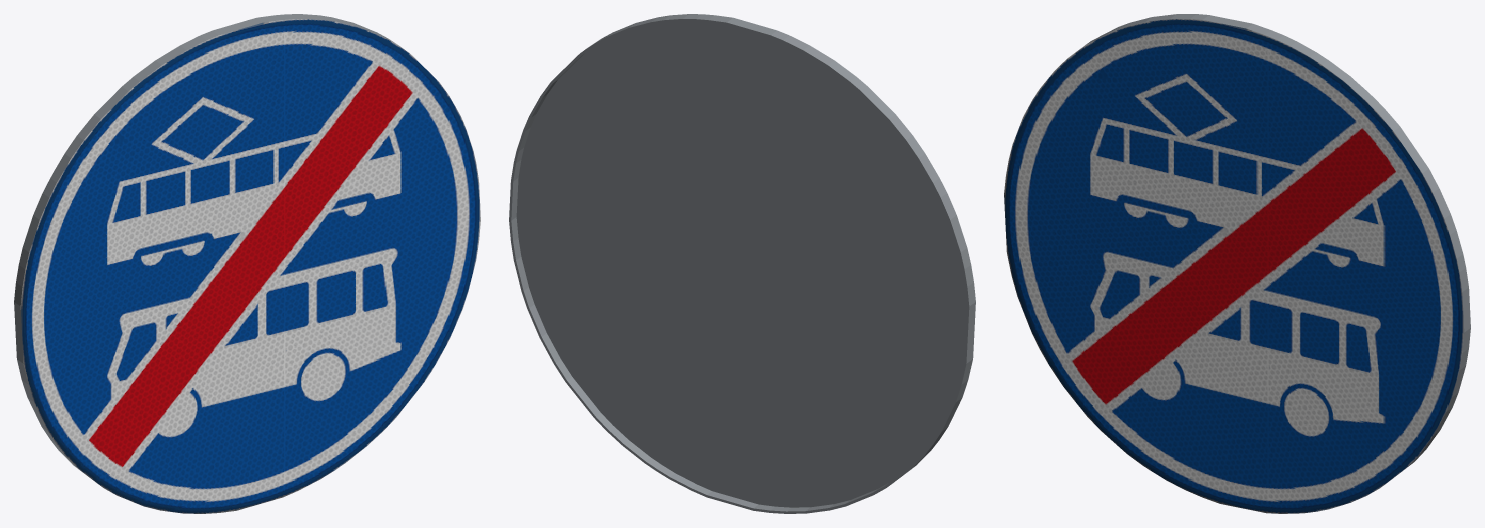
The picture shows the model from 3 angles, left to right: view 1: azimuth 30°, elevation 25°; view 2: azimuth 150°, elevation 25°; view 3: azimuth 330°, elevation 25°; orthographic projection.
Parts seen in each view (by area): view 1: cat_5556be7464d438fe; view 2: cat_5556be7464d438fe; view 3: cat_5556be7464d438fe.
Boxes of the visible parts, x1,y1,x2,y2 form: cat_5556be7464d438fe: [14, 14, 480, 513]; cat_5556be7464d438fe: [509, 14, 975, 513]; cat_5556be7464d438fe: [1004, 14, 1470, 513].
Size of the model in its own units: 0.6 by 0.015 by 0.6.
Materials: 2 (1 with a texture image).
